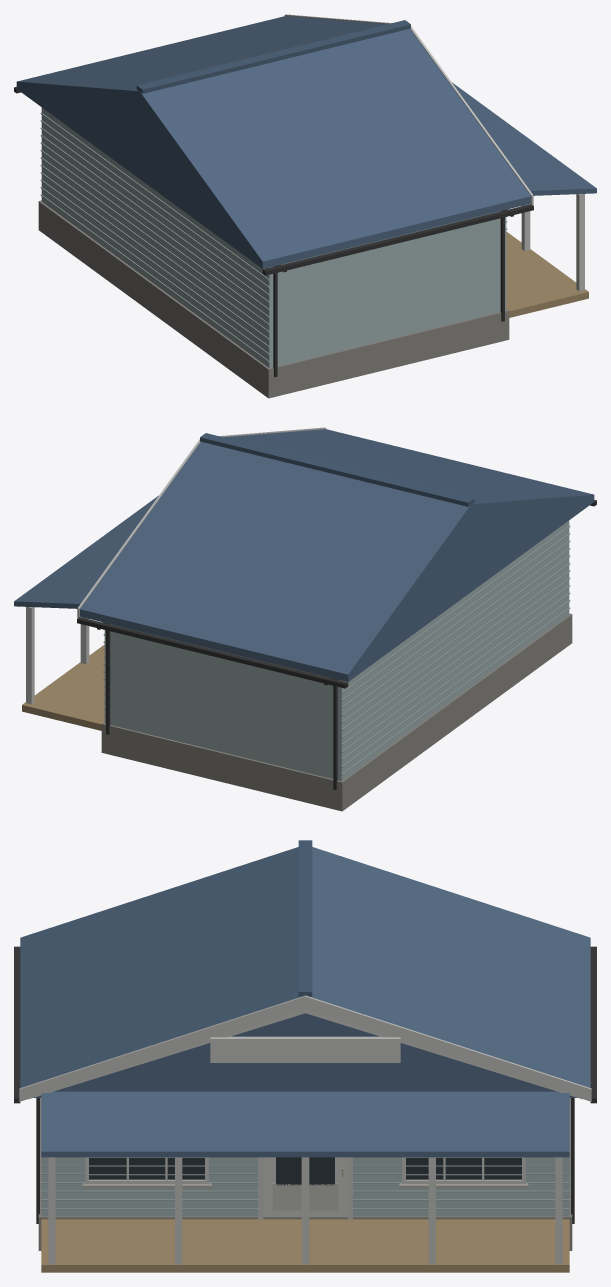
Rendered from SM_Prop_cafe_building_13.glb.
The picture shows the model from 3 angles, top to bottom: view 1: azimuth 30°, elevation 25°; view 2: azimuth 150°, elevation 25°; view 3: azimuth 270°, elevation 25°; orthographic projection. The views are drawn at different scales.
Parts seen in each view (by area): view 1: SM_Prop_cafe_building_13; view 2: SM_Prop_cafe_building_13; view 3: SM_Prop_cafe_building_13.
Boxes of the visible parts, x1,y1,x2,y2 form: SM_Prop_cafe_building_13: (14, 14, 596, 398); SM_Prop_cafe_building_13: (14, 427, 596, 811); SM_Prop_cafe_building_13: (14, 840, 596, 1272).
Size of the model in its own units: 8.7 by 5.57 by 11.04.
